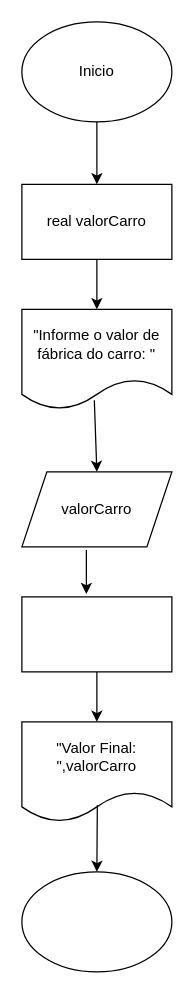
Image size: 194x994. Some labels were removed from this diagram. The centre of each missing label's shape, as x and y in pixels:
Fim: point 96,921
valorCarro += (valorCarro*0.45)+(valorCarro*0.28): point 96,634
